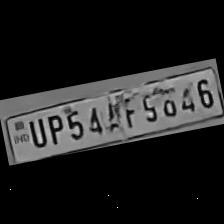4: (81, 100, 105, 138), (174, 78, 198, 115)
5: (60, 104, 85, 142), (136, 86, 160, 124)
6: (191, 74, 217, 110)
P: (41, 110, 65, 146)
U: (23, 114, 48, 150)
